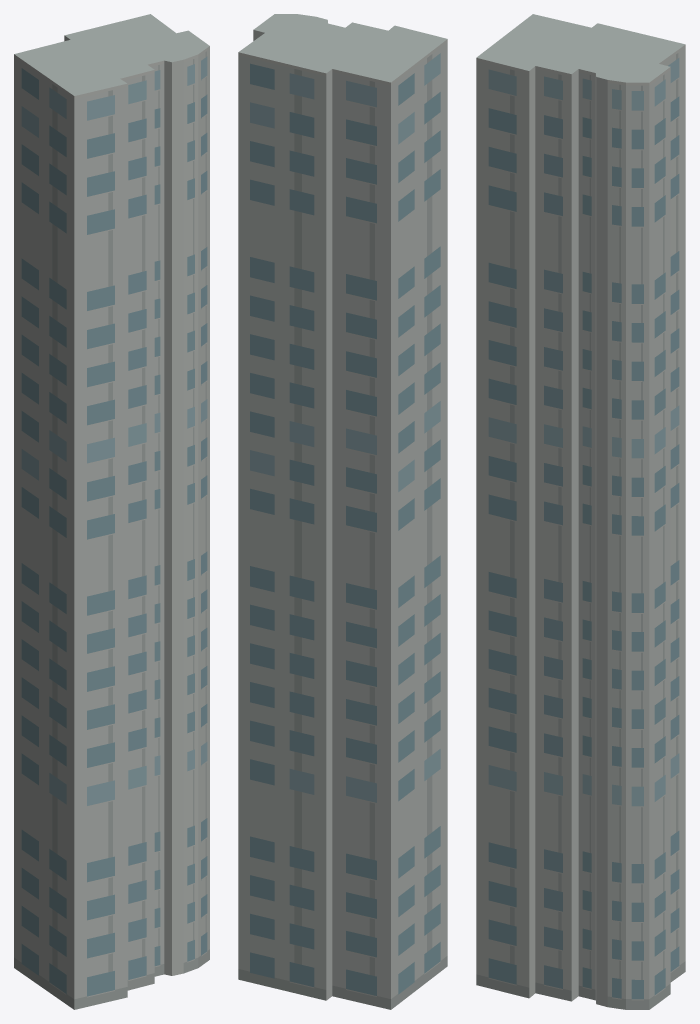
Rendered from survey-upis-32817631.glb.
3 views of the same model, side by side, from view 1: azimuth 30°, elevation 25°; view 2: azimuth 150°, elevation 25°; view 3: azimuth 330°, elevation 25° (orthographic).
Parts seen in each view (by area): view 1: survey-upis-32817631.tmp; view 2: survey-upis-32817631.tmp; view 3: survey-upis-32817631.tmp.
Boxes of the visible parts, x1=… form: survey-upis-32817631.tmp: x1=14, y1=14, x2=209, y2=1009; survey-upis-32817631.tmp: x1=238, y1=14, x2=447, y2=1009; survey-upis-32817631.tmp: x1=476, y1=14, x2=685, y2=1009.
Bounding box in the file's own units: 13.03 × 73.2 × 9.53.
